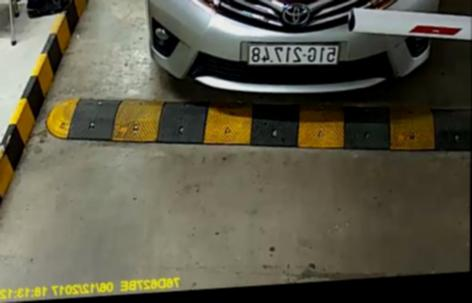License_Plate: (241, 39, 344, 74)
